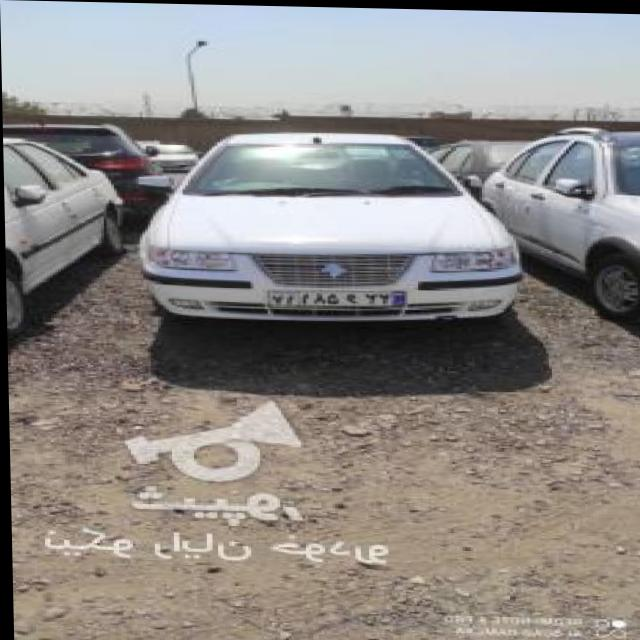licence: (266, 286, 409, 306)
